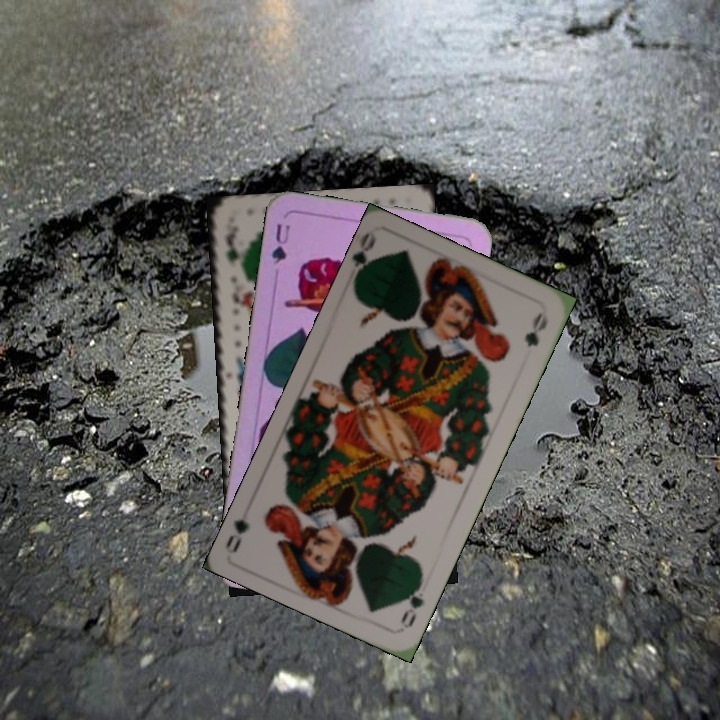GK: (222, 238, 244, 276)
GO: (348, 230, 382, 289), (396, 574, 427, 632)
GU: (267, 220, 293, 268)
